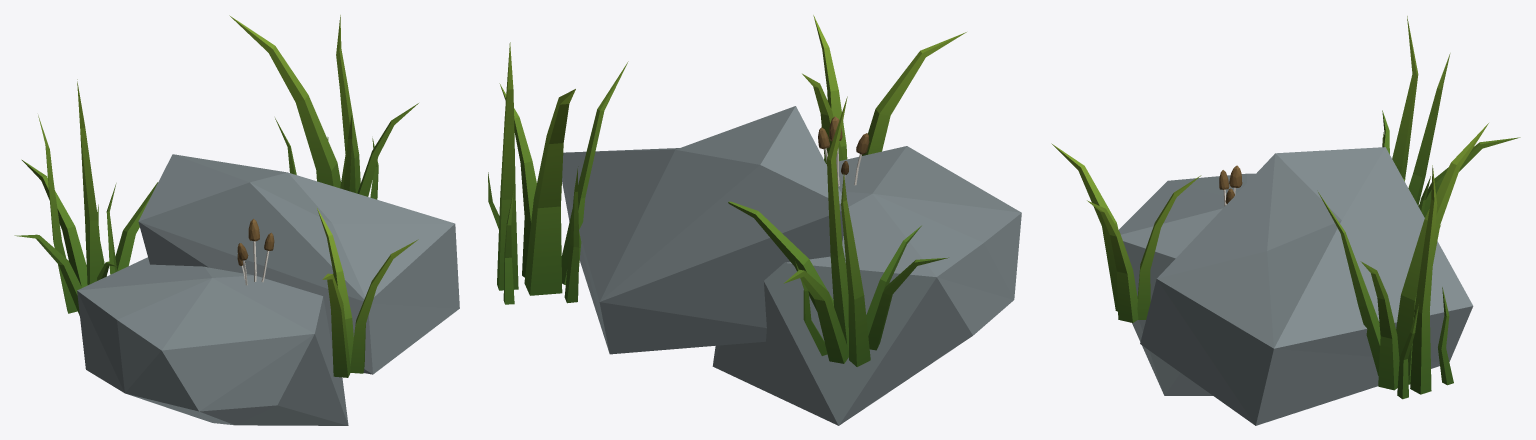
File: Rock_09.fbx
3 views of the same model, side by side, from view 1: azimuth 30°, elevation 25°; view 2: azimuth 150°, elevation 25°; view 3: azimuth 270°, elevation 25° (orthographic). The views are drawn at different scales.
Parts seen in each view (by area): view 1: Rock_09; view 2: Rock_09; view 3: Rock_09.
Boxes of the visible parts, x1=… form: Rock_09: x1=14, y1=15, x2=459, y2=425; Rock_09: x1=488, y1=15, x2=1021, y2=425; Rock_09: x1=1051, y1=16, x2=1520, y2=425.
Size of the model in its own units: 1.14 by 0.8267 by 1.14.
